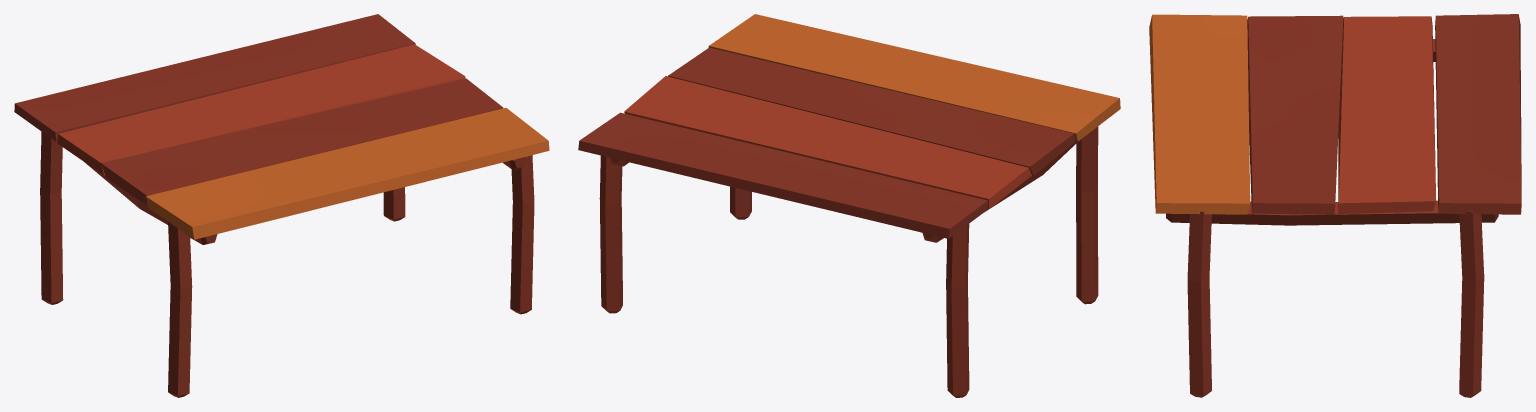
Rendered from Table.fbx.
3 renders of one model, left to right at view 1: azimuth 30°, elevation 25°; view 2: azimuth 150°, elevation 25°; view 3: azimuth 270°, elevation 25°, orthographic. The views are drawn at different scales.
Visible parts, largest first — view 1: Table; view 2: Table; view 3: Table.
Part boxes in pixels (x1=…): Table: x1=14, y1=14, x2=549, y2=397; Table: x1=578, y1=14, x2=1120, y2=397; Table: x1=1149, y1=14, x2=1521, y2=397.
Bounding box in the file's own units: 1.66 × 0.8107 × 1.38.
